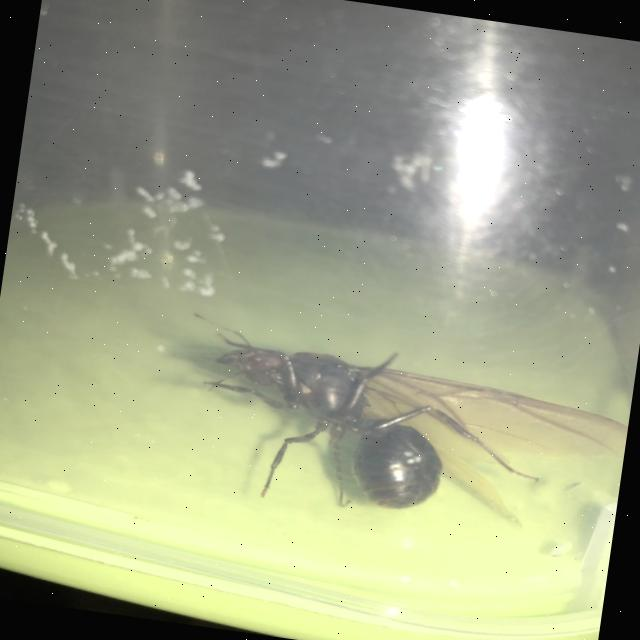Alive-Female-Alate: (170, 312, 635, 548)
